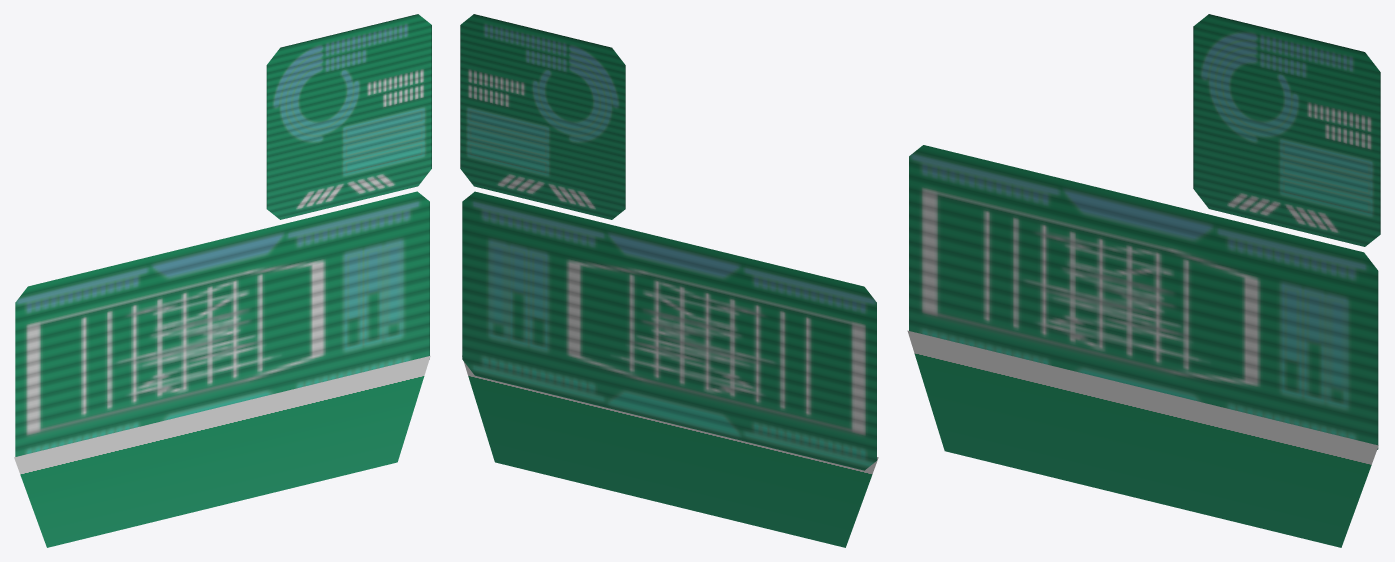
The model's file is Terminal_010_monitor_001.fbx.
3 renders of one model, left to right at view 1: azimuth 30°, elevation 25°; view 2: azimuth 150°, elevation 25°; view 3: azimuth 330°, elevation 25°, orthographic. The views are drawn at different scales.
Parts seen in each view (by area): view 1: Terminal_010_monitor_001; view 2: Terminal_010_monitor_001; view 3: Terminal_010_monitor_001.
Part boxes in pixels (bbox=[...]): Terminal_010_monitor_001: bbox=[14, 14, 431, 547]; Terminal_010_monitor_001: bbox=[460, 14, 878, 547]; Terminal_010_monitor_001: bbox=[907, 14, 1380, 547].
Size of the model in its own units: 93.75 by 0.0603 by 94.97.
